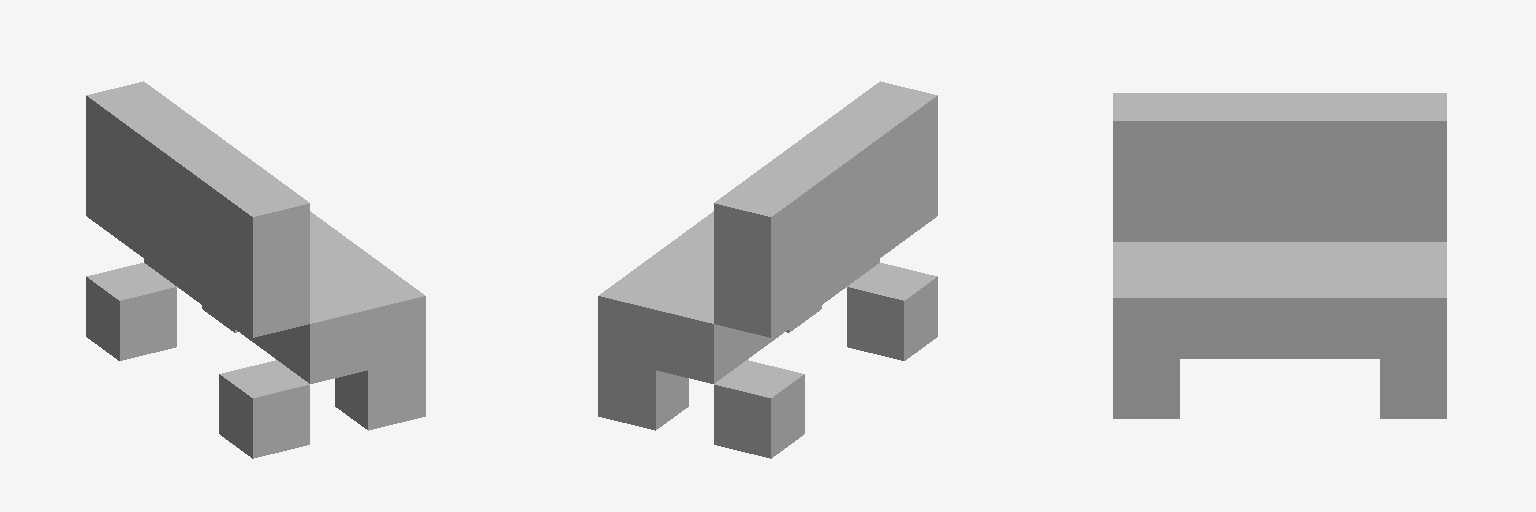
Rendered from Banco.obj.
The picture shows the model from 3 angles: view 1: azimuth 30°, elevation 25°; view 2: azimuth 150°, elevation 25°; view 3: azimuth 270°, elevation 25°; orthographic projection.
Visible parts, largest first — view 1: object 1; view 2: object 1; view 3: object 1.
Part boxes in pixels (x1,y1,x2,y2): object 1: (86, 81, 425, 458); object 1: (598, 81, 937, 458); object 1: (1113, 93, 1446, 418).
Bounding box in the file's own units: 0.3 × 0.4 × 0.5.